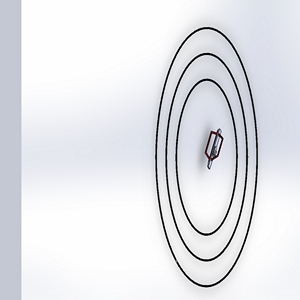circle: (149, 23, 263, 290)
submarine: (198, 121, 227, 179)
